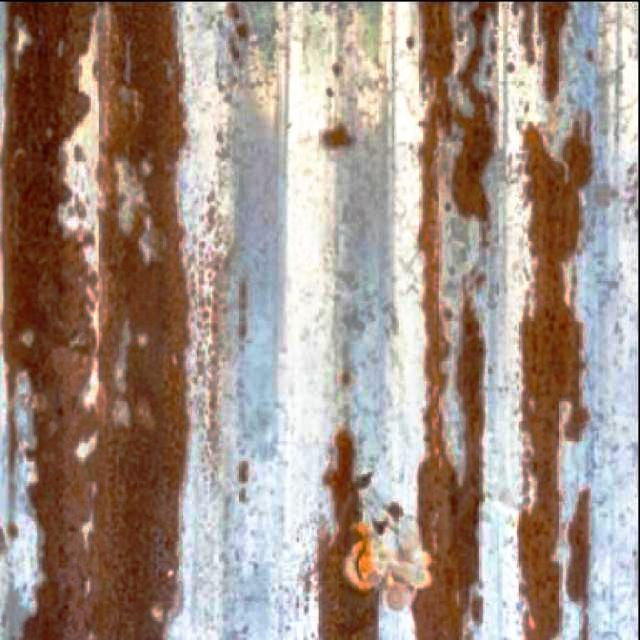Corrosion: (90, 4, 186, 640), (1, 3, 95, 640), (519, 121, 592, 640), (413, 256, 485, 640), (319, 430, 377, 640), (452, 3, 496, 220), (420, 2, 454, 256), (538, 1, 570, 100), (225, 2, 249, 64), (521, 2, 536, 62), (323, 123, 352, 148)
